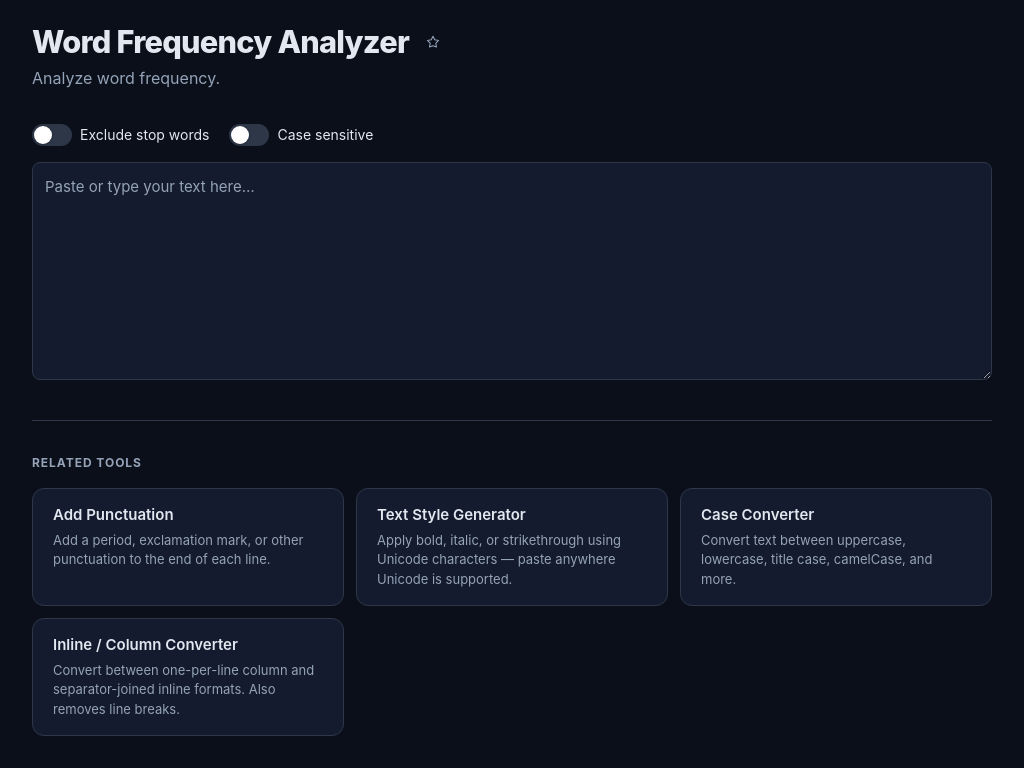
Test case: WordFrequency › shows count of 2 for a repeated word
The width and height of the screenshot is (1024, 768).
Type "apple apple" into the text box named "text to analyze" at (512, 271), box [32, 162, 992, 380]
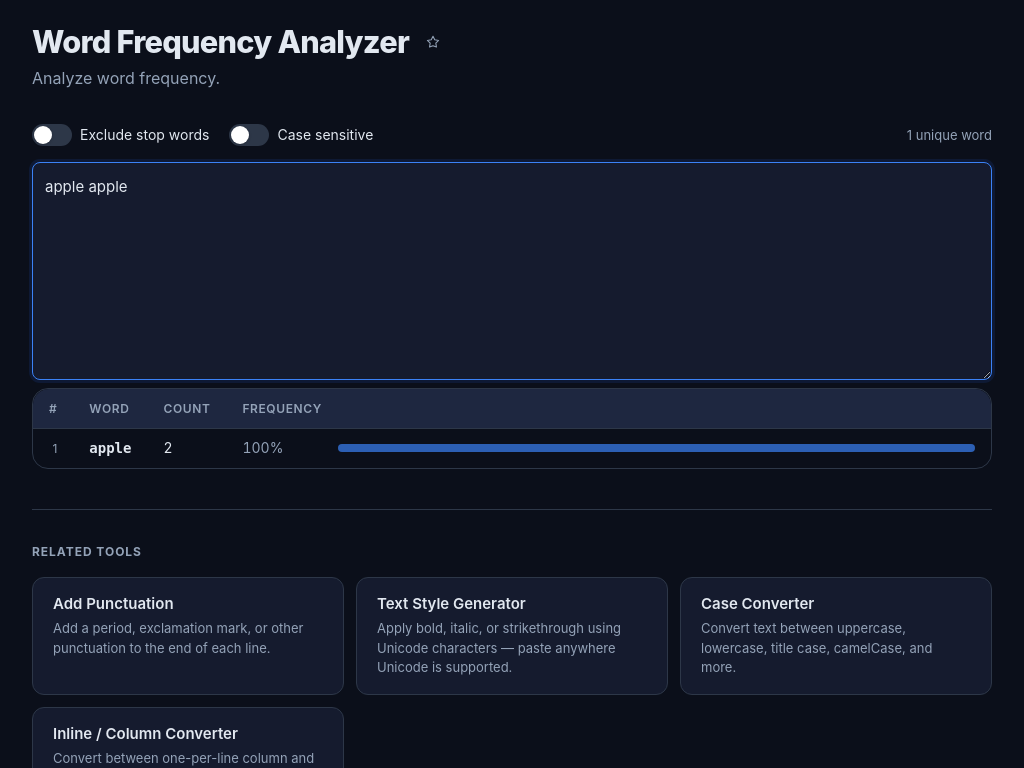
Expected: the text "2" is shown, [148, 429, 226, 468]
